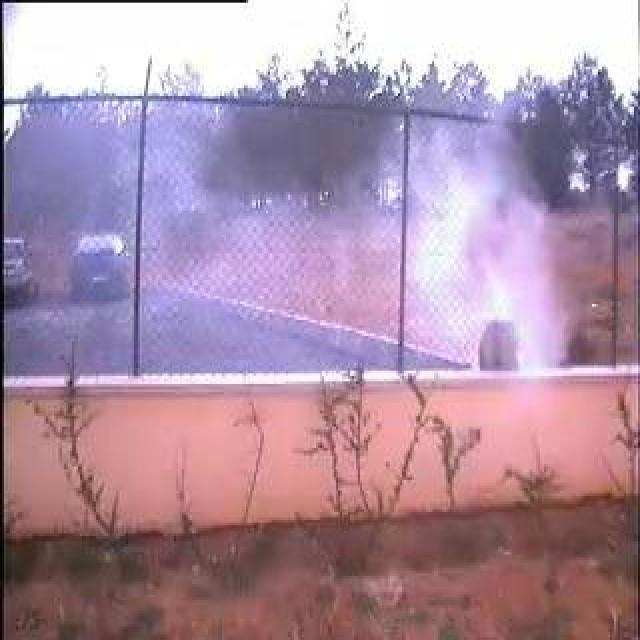Smoke: (390, 143, 564, 372)
